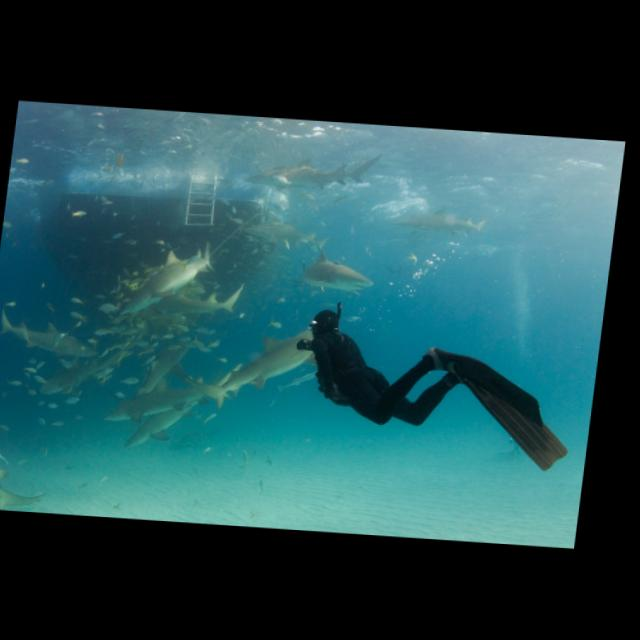human: (290, 295, 589, 478)
